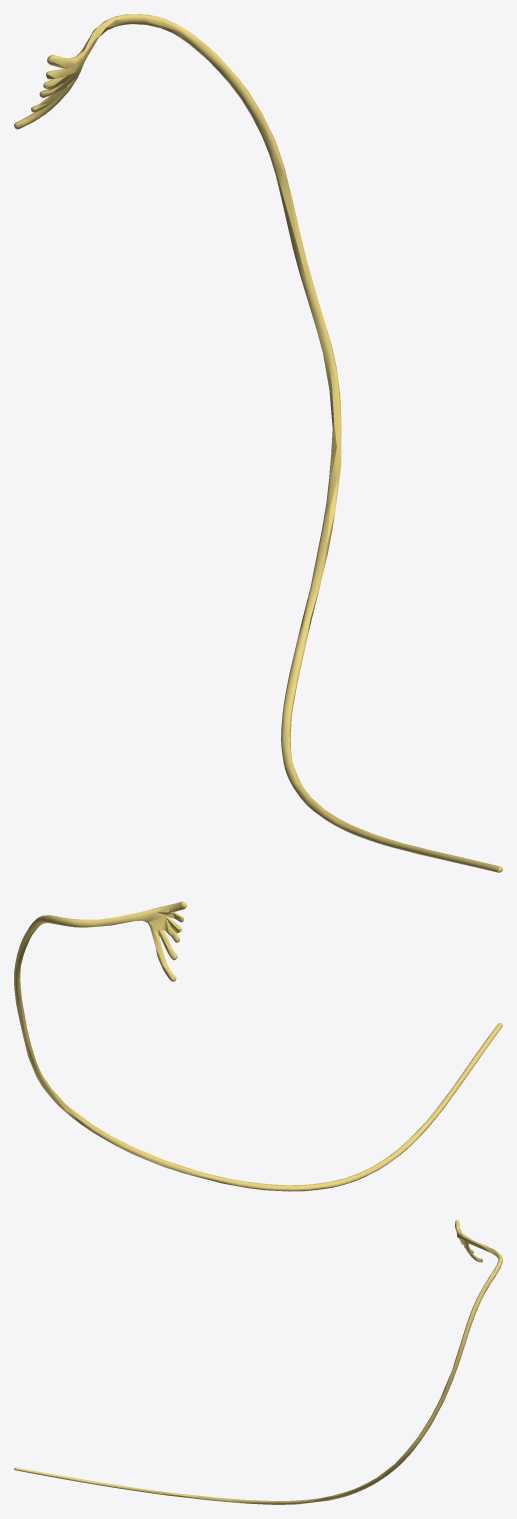
The model's file is Trunk of left hypoglossal nerve.fbx.
3 views of the same model, one above another, from view 1: azimuth 30°, elevation 25°; view 2: azimuth 150°, elevation 25°; view 3: azimuth 270°, elevation 25° (orthographic). The views are drawn at different scales.
Parts seen in each view (by area): view 1: Trunk of left hypoglossal nerve; view 2: Trunk of left hypoglossal nerve; view 3: Trunk of left hypoglossal nerve.
Part boxes in pixels (box(x1,y1,x2,y2)): Trunk of left hypoglossal nerve: box(14, 14, 502, 872); Trunk of left hypoglossal nerve: box(14, 901, 502, 1191); Trunk of left hypoglossal nerve: box(14, 1220, 502, 1504).
Bounding box in the file's own units: 3.4 × 7.12 × 11.28.
